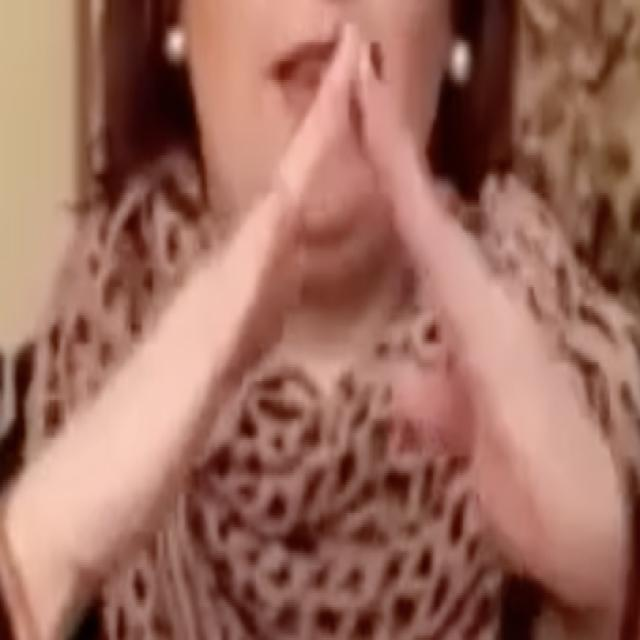casa: (4, 17, 628, 613)
